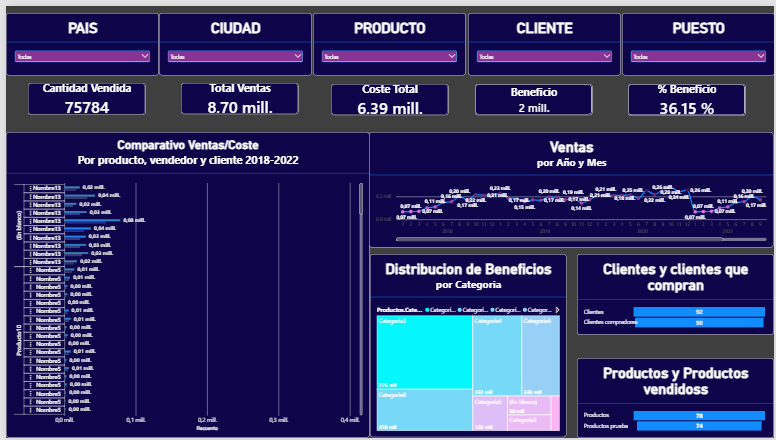

The dashboard page shown, as its layout file describes it:
{"tool":"powerbi","page":{"name":"Analisis ","canvas":[1920,1080],"ordinal":1},"visuals":[{"type":"clusteredBarChart","title":"Comparativo Ventas/Coste ","fields":{"Category":["Productos.Productos.Nombre","Clientes.Clientes.Nombre","Vendedores.Vendedores.Nombre"],"Y":["Medidas.Ventas","Medidas.Coste"]},"box":[0,316,909.1,763.6],"z":0},{"type":"cardVisual","fields":{"Data":["Medidas.Cantidad"]},"box":[55.1,191.8,293.9,79.6],"z":1000},{"type":"cardVisual","fields":{"Data":["Medidas.Ventas"]},"box":[436.7,191.8,293.9,77.6],"z":2000},{"type":"cardVisual","fields":{"Data":["Medidas.Coste"]},"box":[812.2,193.9,293.9,77.6],"z":3000},{"type":"cardVisual","fields":{"Data":["Medidas.Beneficio"]},"box":[1171.4,195.9,293.9,77.6],"z":4000},{"type":"cardVisual","fields":{"Data":["Medidas.% Beneficio"]},"box":[1555.1,193.9,293.9,79.6],"z":5000},{"type":"treemap","title":"Distribucion de Beneficios","fields":{"Group":["Productos.Productos.Categoria_ID"],"Values":["Medidas.Beneficio"]},"box":[909.1,621.2,490.7,458.1],"z":6000},{"type":"funnel","title":"Clientes y clientes que compran","fields":{"Y":["Medidas.Clientes","Medidas.Clientes compradores"]},"box":[1428,620,492,202],"z":7000},{"type":"slicer","title":"PAIS","fields":{"Values":["Clientes.Clientes.Pais"]},"box":[0,18.4,382,156],"z":8000},{"type":"slicer","title":"CIUDAD","fields":{"Values":["Clientes.Clientes.Ciudad"]},"box":[381.6,18.4,382,156],"z":9000},{"type":"slicer","title":"PRODUCTO","fields":{"Values":["Productos.Productos.Producto_ID"]},"box":[767.3,18.4,382,156],"z":10000},{"type":"slicer","title":"CLIENTE","fields":{"Values":["Clientes.Clientes.Nombre"]},"box":[1155.1,18.4,382,156],"z":11000},{"type":"slicer","title":"PUESTO","fields":{"Values":["Vendedores.Vendedores.Puesto"]},"box":[1538.8,18.4,382,156],"z":12000},{"type":"funnel","title":"Productos y Productos vendidoss","fields":{"Y":["Medidas.Productos","Medidas.Productos prueba"]},"box":[1428,880,492,200],"z":13000},{"type":"lineChart","fields":{"Category":["Calendario.Año","Calendario.Mes"],"Y":["Medidas.Ventas"]},"box":[908.6,315.7,1011.4,288.6],"z":14000}]}

Visuals, with their boxes in screenshot pixels (x1, y1, x2, y2), scaled from the page's 1920x1080 canvas onto the 776x440 screenshot:
"Comparativo Ventas/Coste " clusteredBarChart: region(0, 129, 367, 439)
cardVisual - Medidas.Cantidad: region(22, 78, 141, 111)
cardVisual - Medidas.Ventas: region(176, 78, 295, 110)
cardVisual - Medidas.Coste: region(328, 79, 447, 111)
cardVisual - Medidas.Beneficio: region(473, 80, 592, 111)
cardVisual - Medidas.% Beneficio: region(629, 79, 747, 111)
"Distribucion de Beneficios" treemap: region(367, 253, 566, 439)
"Clientes y clientes que compran" funnel: region(577, 253, 775, 335)
"PAIS" slicer: region(0, 7, 154, 71)
"CIUDAD" slicer: region(154, 7, 309, 71)
"PRODUCTO" slicer: region(310, 7, 465, 71)
"CLIENTE" slicer: region(467, 7, 621, 71)
"PUESTO" slicer: region(622, 7, 775, 71)
"Productos y Productos vendidoss" funnel: region(577, 359, 775, 439)
lineChart - Calendario.Año x Calendario.Mes: region(367, 129, 775, 246)
